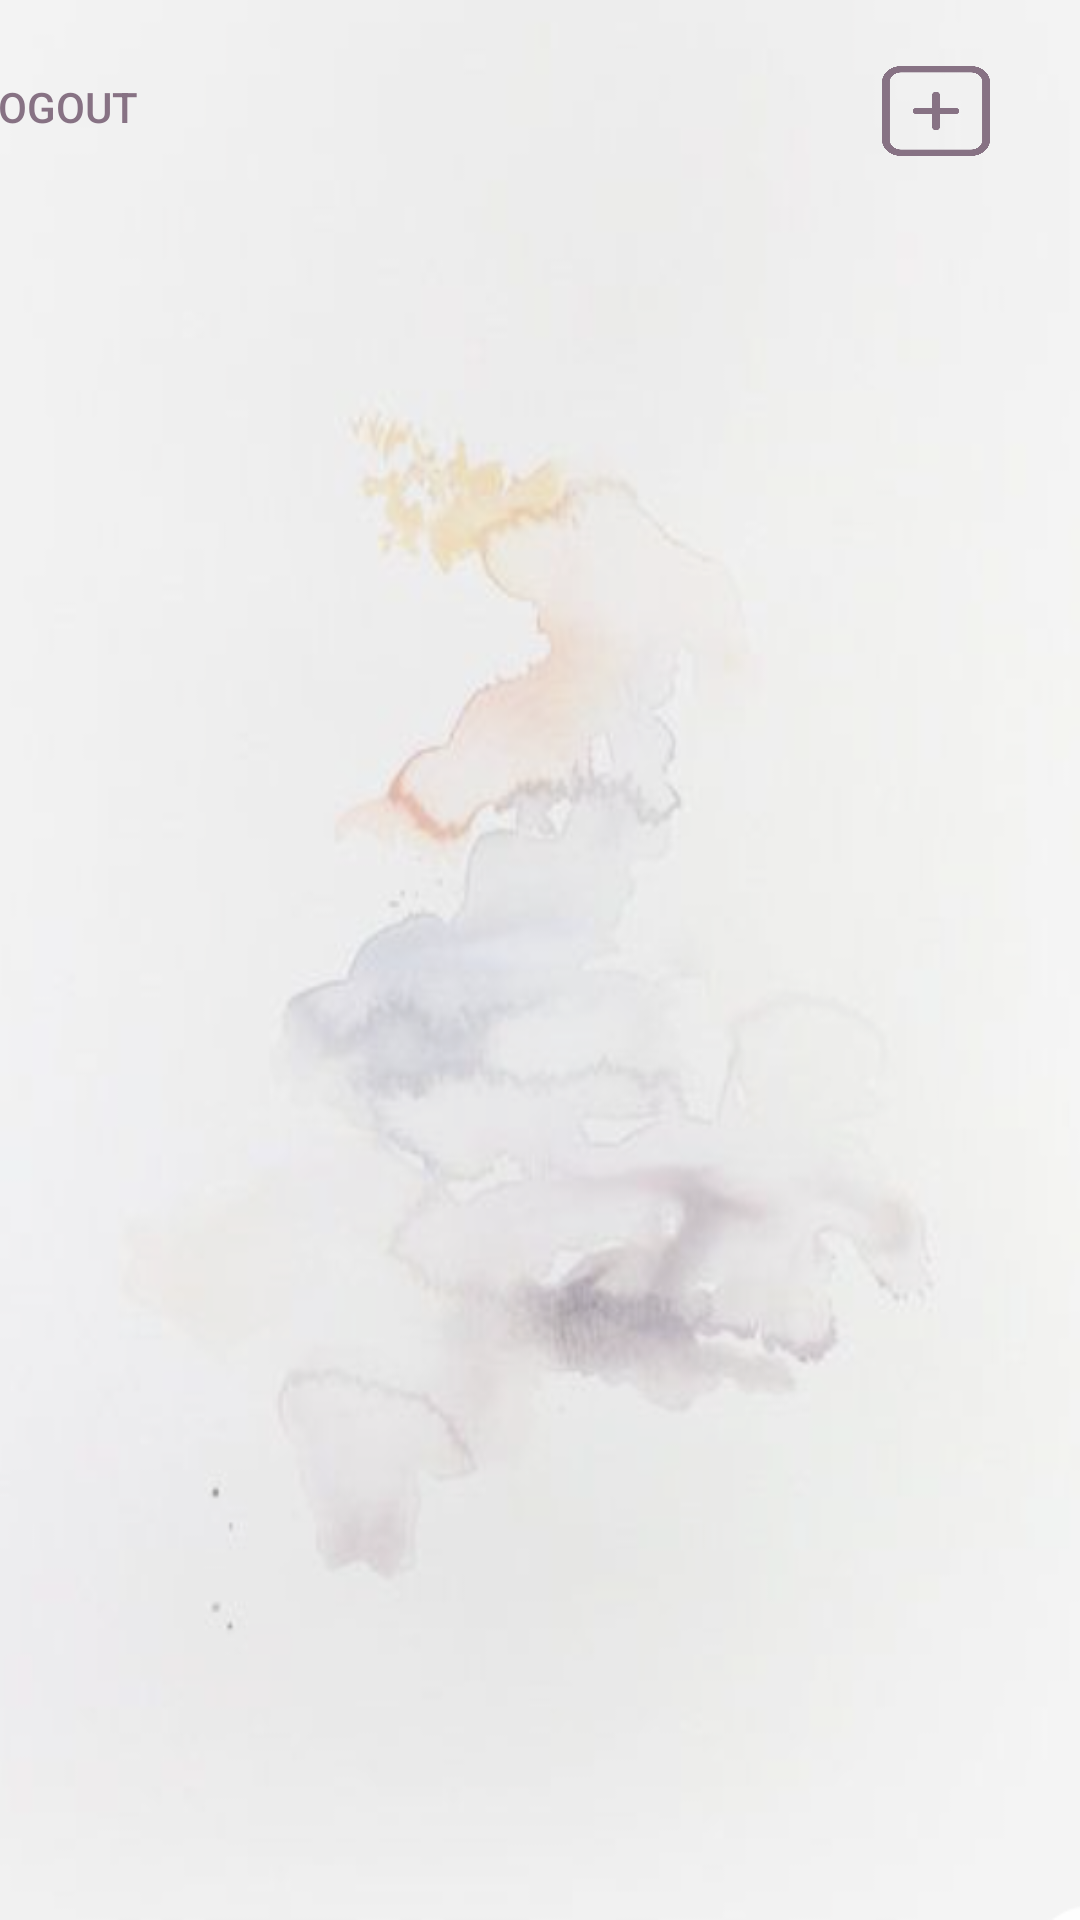

Icons on this 1080w x 1920h Android screen, each with its box as [x1=x1, y1=y1, x2=x2, y2=y2]:
add: [x1=882, y1=66, x2=990, y2=156]
